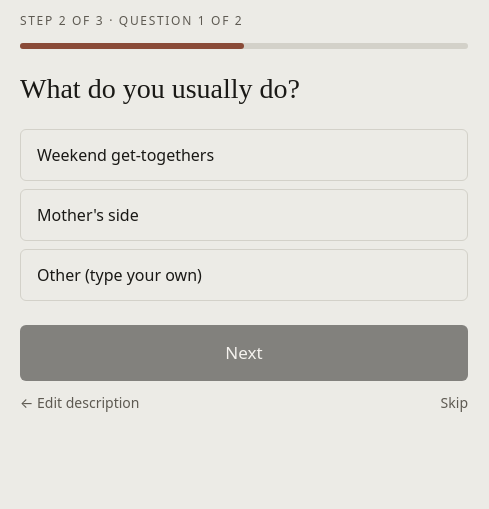
Test: follow-up questions › only treats the real 'Other' choice as free text
This screenshot has width=489, height=509.
Step 1. Click the radio button "Weekend get-togethers" → click(126, 155), box [20,129,468,181]
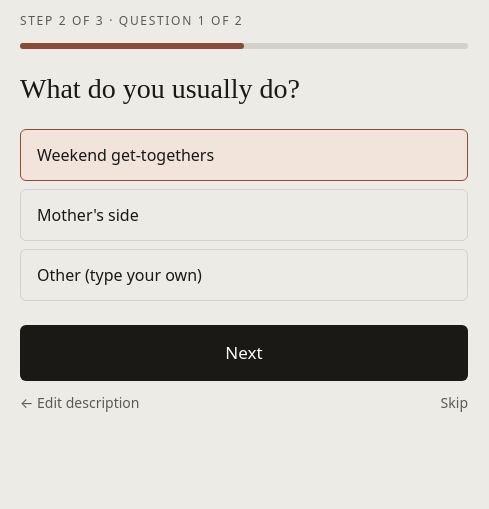
Step 2. Click the radio button "Mother's side" → click(88, 215), box [20,189,468,241]
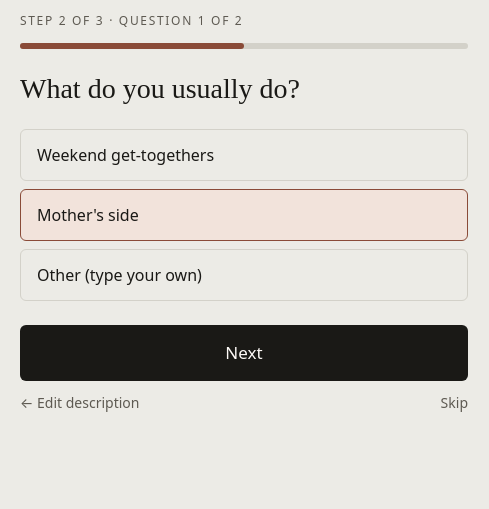
Step 3. Click the radio button "Other (type your own)" → click(119, 275), box [20,249,468,301]
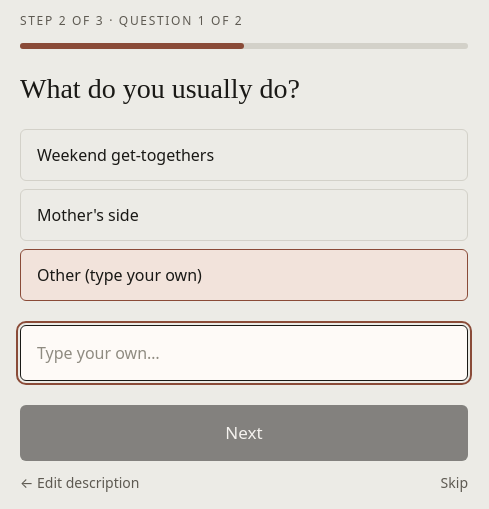
Result: the field named "Your answer" is shown at [20,325,468,381]
